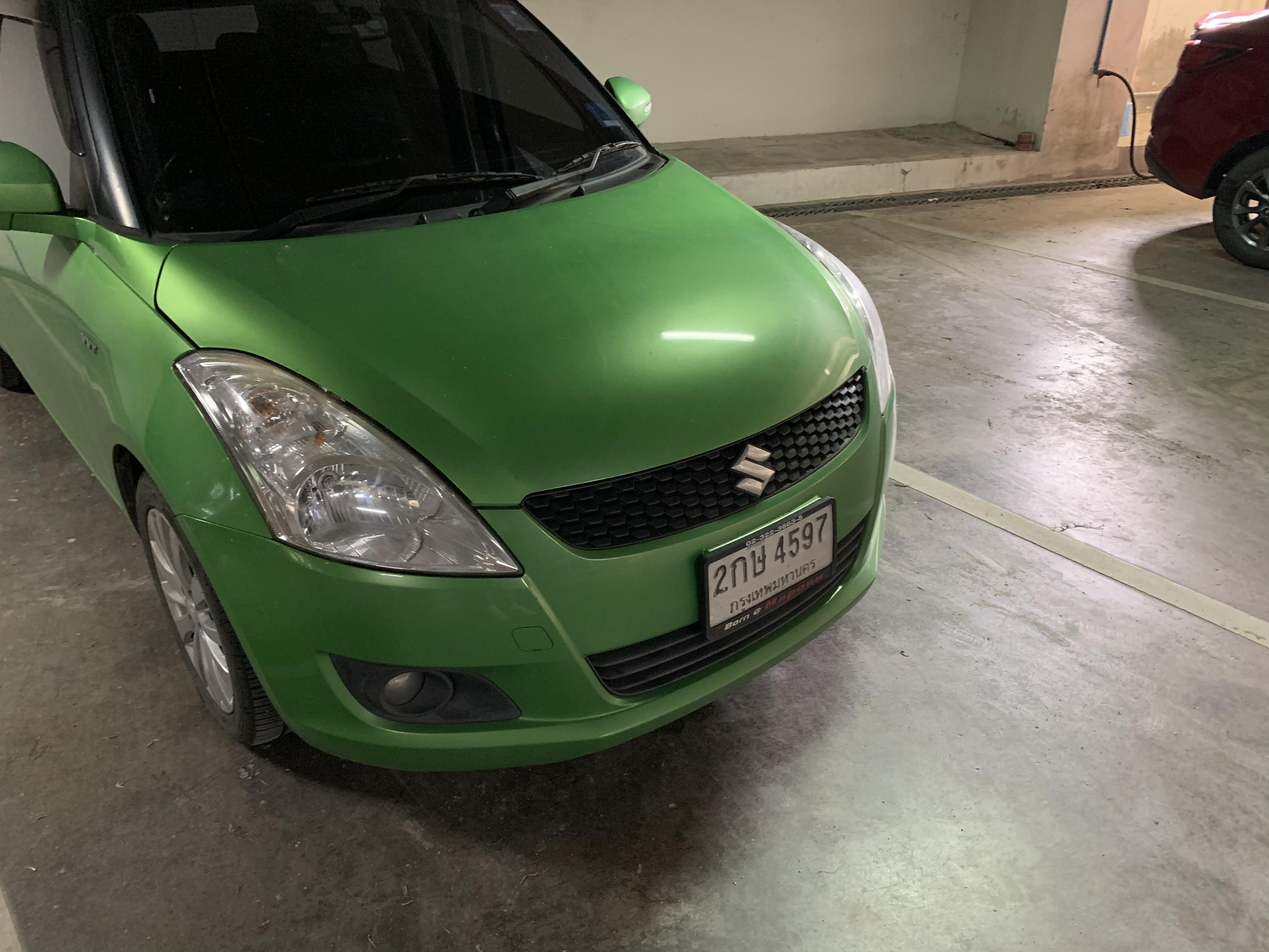license-plate: (692, 491, 846, 652)
